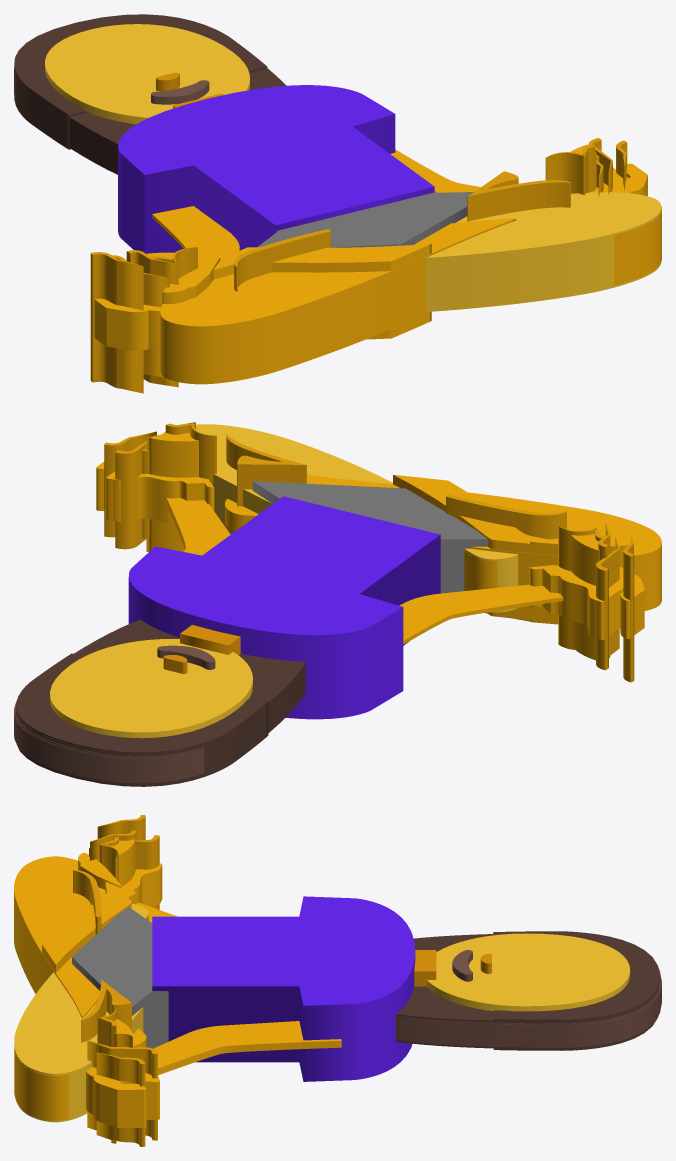
Rendered from emoji_u1f9d8_200d_2640.glb.
3 views of the same model, one above another, from view 1: azimuth 30°, elevation 25°; view 2: azimuth 150°, elevation 25°; view 3: azimuth 270°, elevation 25° (orthographic). The views are drawn at different scales.
Visible parts, largest first — view 1: emoji_u1f9d8_200d_2640; view 2: emoji_u1f9d8_200d_2640; view 3: emoji_u1f9d8_200d_2640.
Boxes of the visible parts, x1,y1,x2,y2 form: emoji_u1f9d8_200d_2640: (14,14,661,393); emoji_u1f9d8_200d_2640: (14,422,661,786); emoji_u1f9d8_200d_2640: (14,815,661,1146).
Bounding box in the file's own units: 0.0294 × 0.0068 × 0.034.
